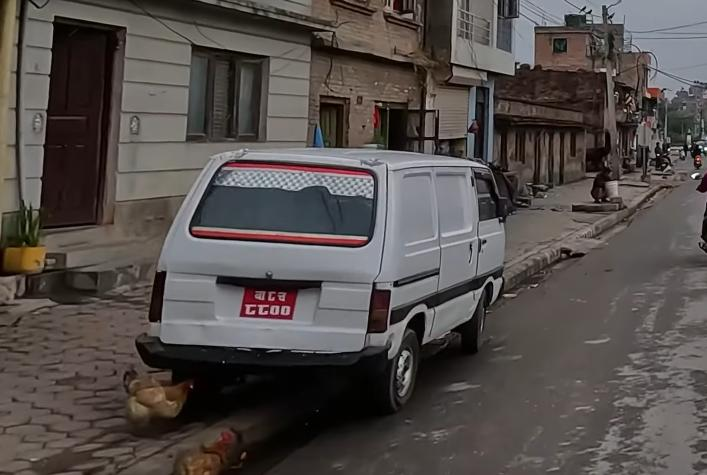van: (137, 137, 514, 416)
